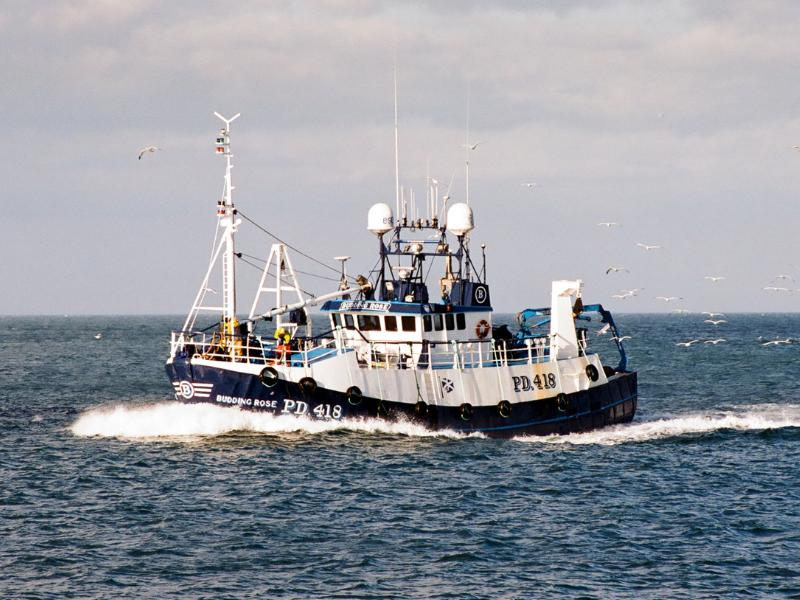fishing boat: (162, 100, 642, 441)
